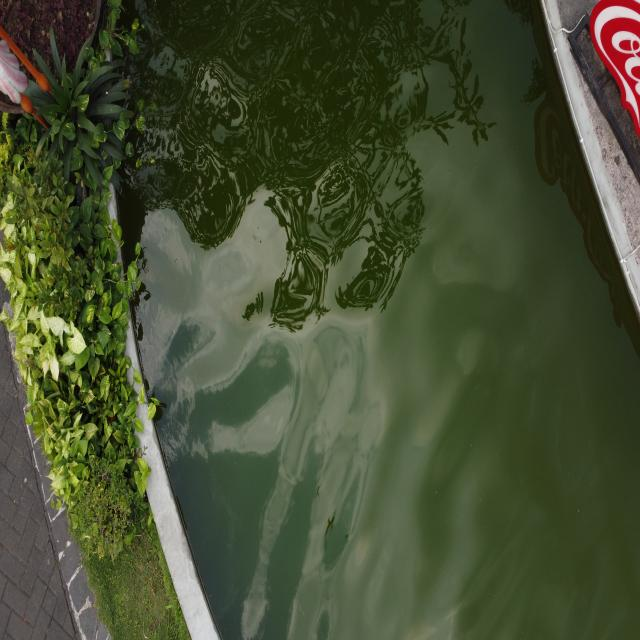Ponds: (94, 1, 640, 640)
